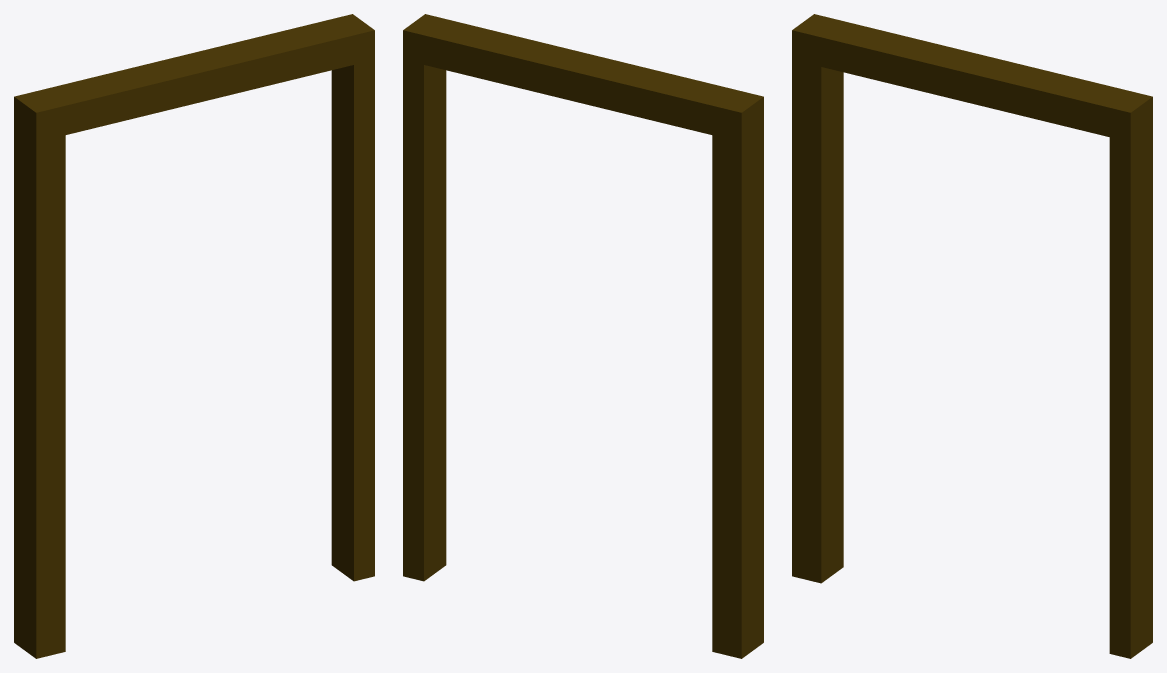
File: EncadrementPorte.fbx
3 views of the same model, side by side, from view 1: azimuth 30°, elevation 25°; view 2: azimuth 150°, elevation 25°; view 3: azimuth 330°, elevation 25° (orthographic).
Visible parts, largest first — view 1: pCube18; view 2: pCube18; view 3: pCube18.
Part boxes in pixels (x1,y1,x2,y2): pCube18: (14,14,374,658); pCube18: (403,14,763,658); pCube18: (792,14,1152,658).
Bounding box in the file's own units: 7.26 × 11.19 × 0.8233.
